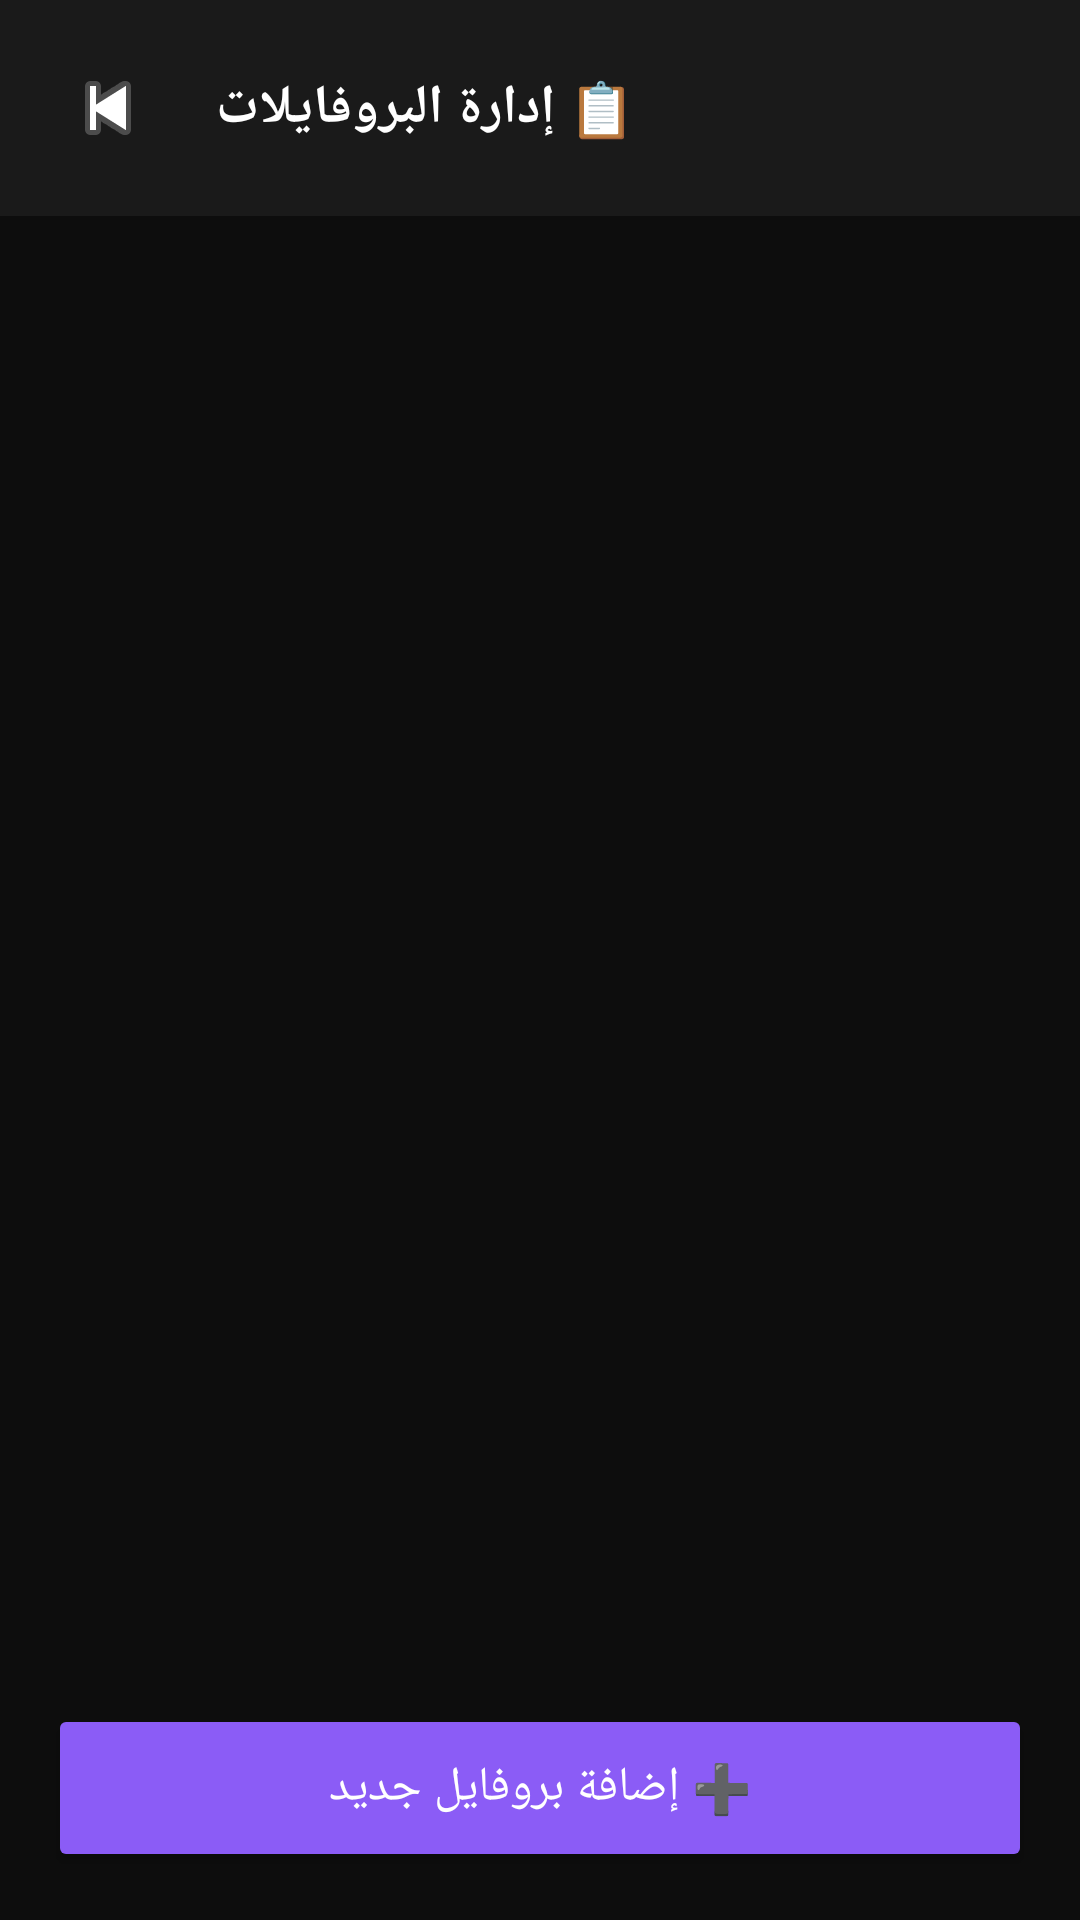

Named icons in this screenshot (1080w x 1920h) and their centers, (x,y):
رجوع: (108,108)
